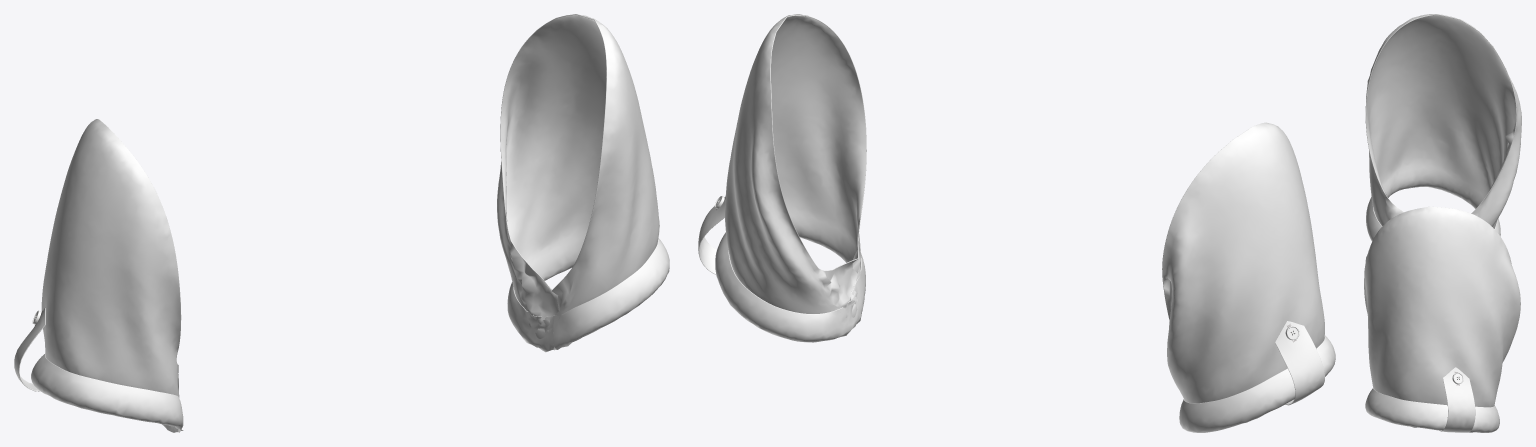
Rendered from button_tab.glb.
3 views of the same model, side by side, from view 1: azimuth 30°, elevation 25°; view 2: azimuth 150°, elevation 25°; view 3: azimuth 270°, elevation 25° (orthographic). The views are drawn at different scales.
Visible parts, largest first — view 1: sleeve_11_Node, sleeve_5_Node, contrast_Node, contrast_1_Node, sleeve_1_Node; view 2: sleeve_11_Node, sleeve_5_Node, contrast_Node, contrast_1_Node, sleeve_1_Node, sleeve_3_Node; view 3: sleeve_11_Node, sleeve_5_Node, contrast_Node, sleeve_3_Node, contrast_1_Node.
Part boxes in pixels (left/top/right/bottom): sleeve_11_Node: left=497, top=14, right=659, bottom=350; sleeve_5_Node: left=41, top=119, right=181, bottom=432; contrast_Node: left=507, top=238, right=669, bottom=352; contrast_1_Node: left=31, top=354, right=183, bottom=432; sleeve_1_Node: left=14, top=307, right=45, bottom=391; sleeve_11_Node: left=725, top=14, right=866, bottom=317; sleeve_5_Node: left=1162, top=122, right=1324, bottom=403; contrast_Node: left=715, top=232, right=865, bottom=342; contrast_1_Node: left=1179, top=335, right=1335, bottom=432; sleeve_1_Node: left=1275, top=321, right=1324, bottom=405; sleeve_3_Node: left=698, top=196, right=725, bottom=274; sleeve_11_Node: left=1364, top=206, right=1520, bottom=427; sleeve_5_Node: left=1365, top=14, right=1521, bottom=228; contrast_Node: left=1365, top=388, right=1499, bottom=432; sleeve_3_Node: left=1439, top=367, right=1475, bottom=432; contrast_1_Node: left=1366, top=197, right=1500, bottom=241.
Size of the model in its own units: 49.59 by 23.49 by 13.34.
24 materials, 2 textured.
